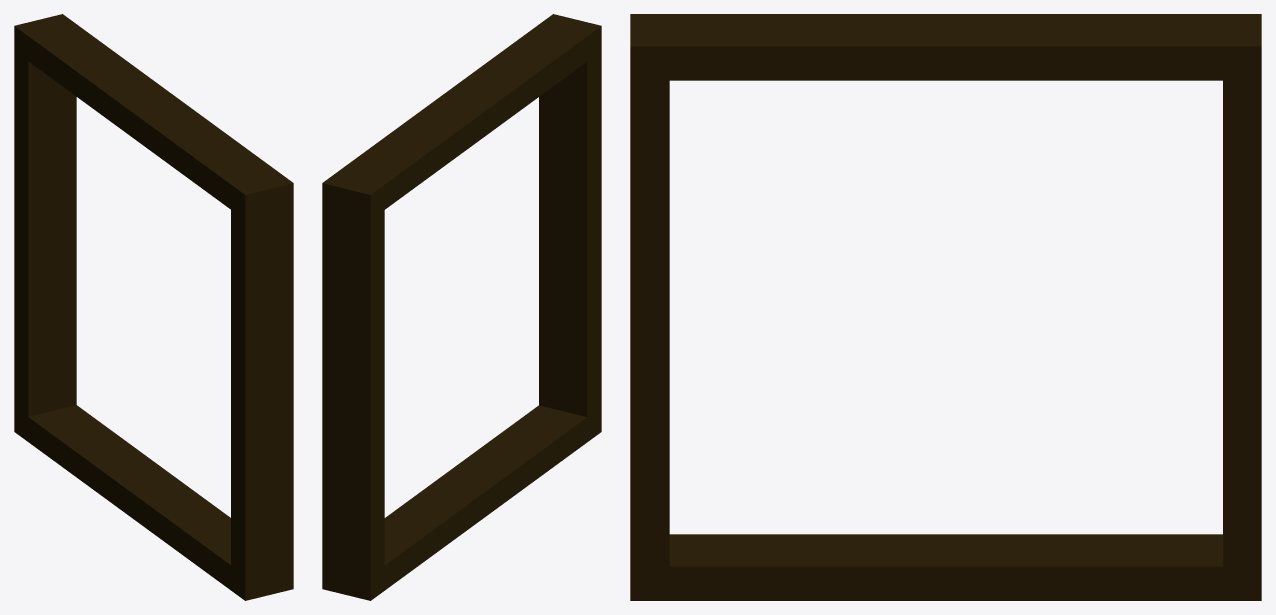
The model's file is 1 SW Frame.fbx.
3 renders of one model, left to right at view 1: azimuth 30°, elevation 25°; view 2: azimuth 150°, elevation 25°; view 3: azimuth 270°, elevation 25°, orthographic. The views are drawn at different scales.
Visible parts, largest first — view 1: 3SCC frame; view 2: 3SCC frame; view 3: 3SCC frame.
Boxes of the visible parts, x1,y1,x2,y2 form: 3SCC frame: (14, 14, 293, 600); 3SCC frame: (322, 14, 601, 600); 3SCC frame: (630, 14, 1261, 600).
Size of the model in its own units: 100 by 800 by 825.
